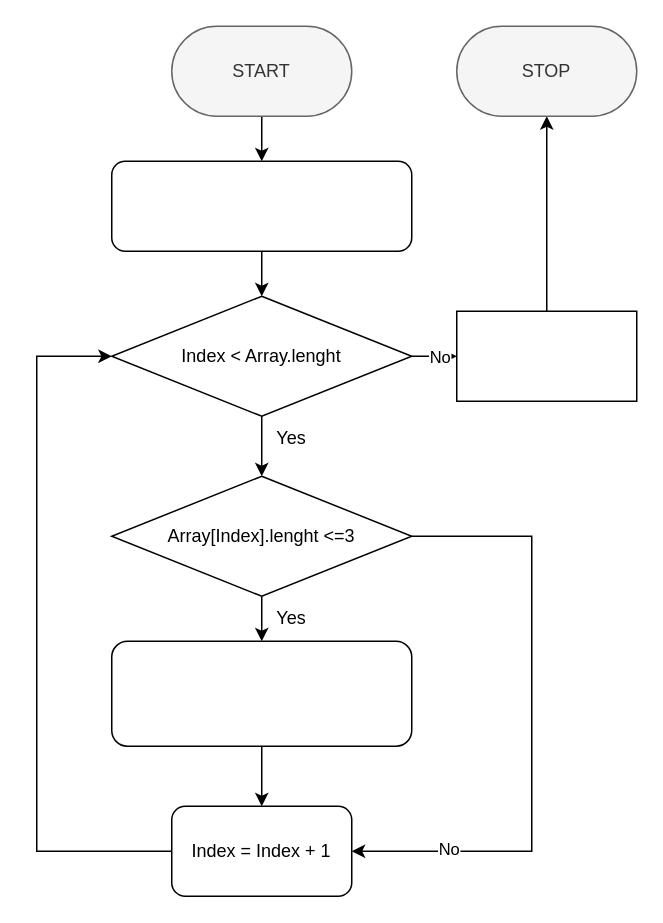
The diagram is 663 pixels wide and 923 high, and some of its shapes have lost their labels. Here are the shapes that lost their labels. From the top down, the centre of each, then its label:
point (261, 205): Array = ["Cat", "Dog"] Index = 0 Result_Array = [ ] Result_Index = 0
point (546, 355): print(Result_Array)
point (261, 693): Result_Array[Result_Index] = Array[Index] Result_Index = Result_Index + 1
